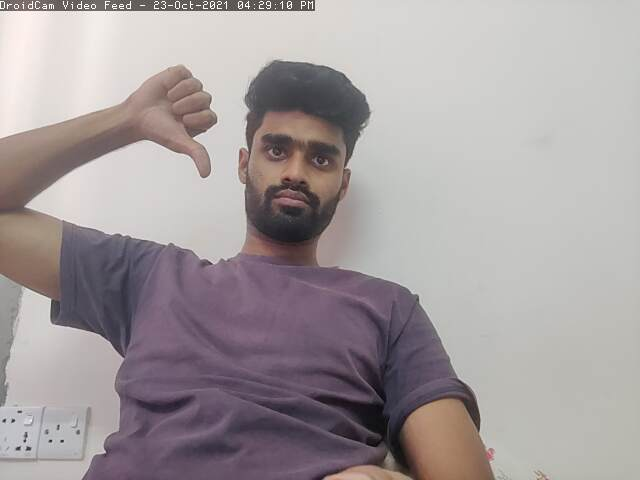ThumbsDown: (123, 62, 217, 180)
